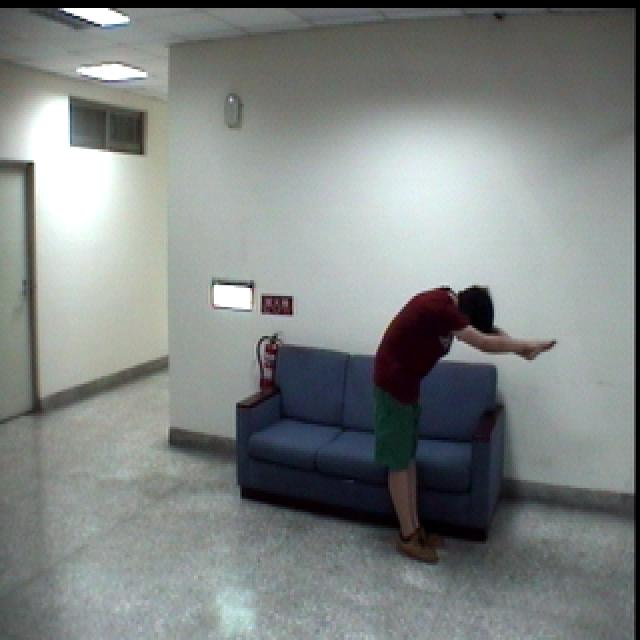bend: (369, 279, 564, 578)
